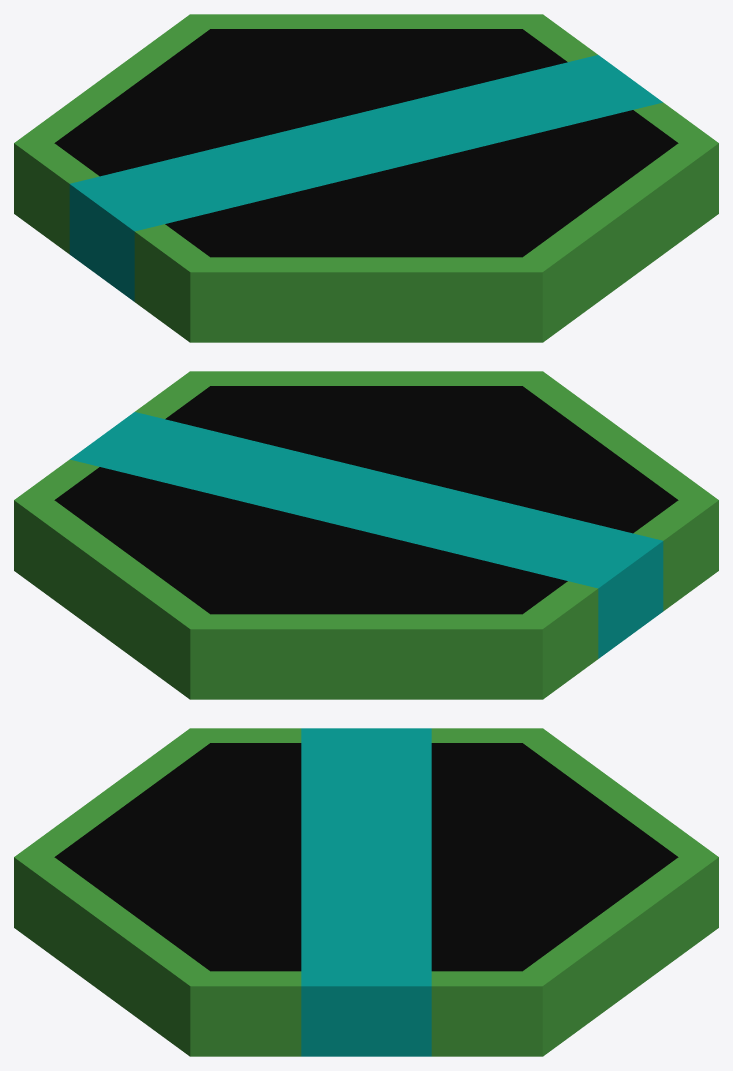
Rendered from HexProt.fbx.
3 renders of one model, top to bottom at view 1: azimuth 30°, elevation 25°; view 2: azimuth 150°, elevation 25°; view 3: azimuth 270°, elevation 25°, orthographic.
Parts seen in each view (by area): view 1: Hex; view 2: Hex; view 3: Hex.
Part boxes in pixels (box(x1,y1,x2,y2)): Hex: box(14, 14, 718, 342); Hex: box(14, 371, 718, 699); Hex: box(14, 728, 718, 1056).
Bounding box in the file's own units: 173 × 22.11 × 200.
